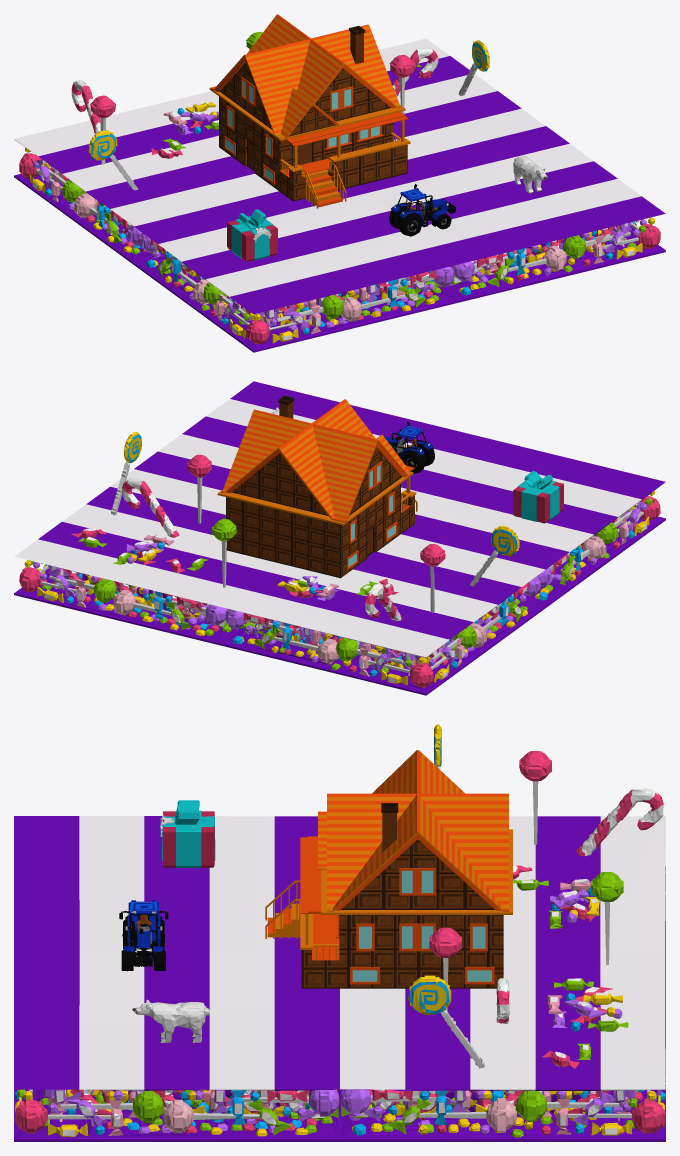
The picture shows the model from 3 angles, top to bottom: view 1: azimuth 30°, elevation 25°; view 2: azimuth 150°, elevation 25°; view 3: azimuth 270°, elevation 25°; orthographic projection. The views are drawn at different scales.
Parts seen in each view (by area): view 1: TERRAIN_CANDY, Cube, OBJRANDOM_GIANT_PRESENT, VEHICLES_TRACTOR, ANIMAL_OSO_POLAR; view 2: TERRAIN_CANDY, Cube, OBJRANDOM_GIANT_PRESENT, VEHICLES_TRACTOR; view 3: TERRAIN_CANDY, Cube, OBJRANDOM_GIANT_PRESENT, VEHICLES_TRACTOR, ANIMAL_OSO_POLAR.
Part boxes in pixels (x1,y1,x2,y2): TERRAIN_CANDY: [14, 31, 665, 352]; Cube: [209, 14, 410, 208]; OBJRANDOM_GIANT_PRESENT: [227, 209, 277, 261]; VEHICLES_TRACTOR: [389, 184, 455, 236]; ANIMAL_OSO_POLAR: [513, 155, 547, 193]; TERRAIN_CANDY: [14, 381, 665, 695]; Cube: [217, 395, 417, 578]; OBJRANDOM_GIANT_PRESENT: [513, 471, 563, 523]; VEHICLES_TRACTOR: [384, 421, 434, 473]; TERRAIN_CANDY: [14, 724, 665, 1141]; Cube: [265, 750, 512, 988]; OBJRANDOM_GIANT_PRESENT: [160, 800, 215, 867]; VEHICLES_TRACTOR: [119, 900, 168, 971]; ANIMAL_OSO_POLAR: [132, 999, 209, 1042].
Bounding box in the file's own units: 4059 × 1600 × 4000.
24 materials, 3 textured.
